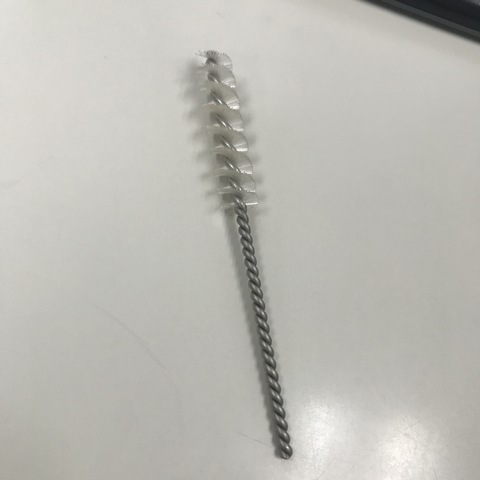Twist Brush-B: (187, 49, 310, 463)
